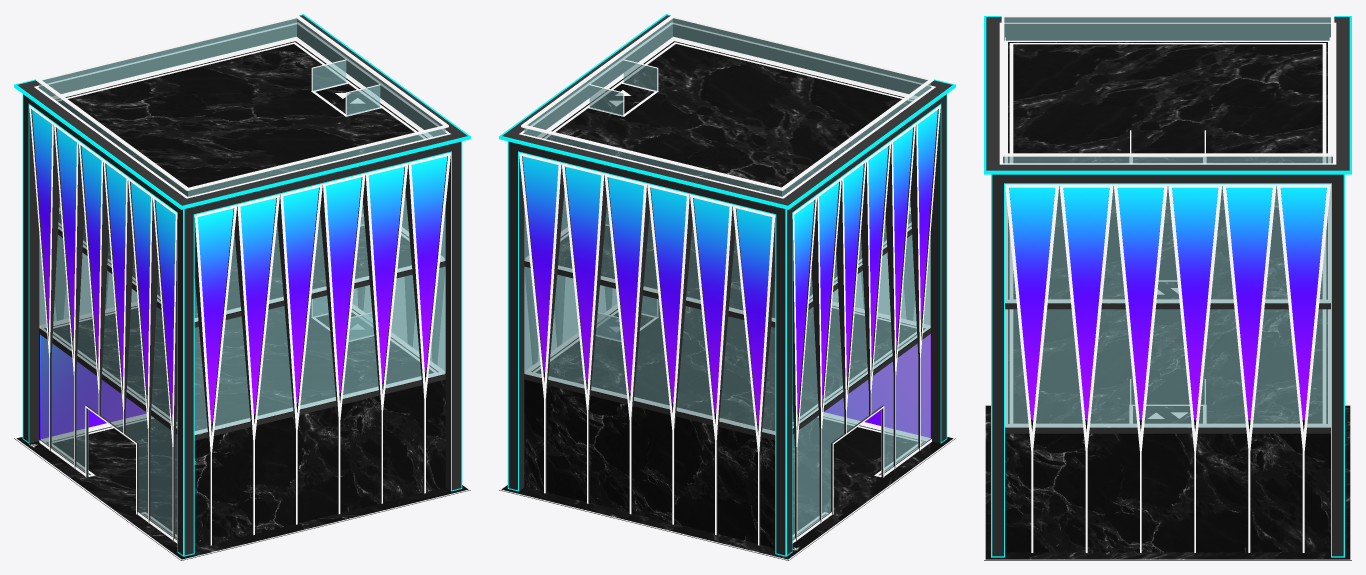
Rendered from Dhingia Builds 01 Blue 1x1.glb.
The picture shows the model from 3 angles, left to right: view 1: azimuth 30°, elevation 25°; view 2: azimuth 150°, elevation 25°; view 3: azimuth 270°, elevation 25°; orthographic projection. The views are drawn at different scales.
Visible parts, largest first — view 1: Mirror#2, Mesh_35, Mesh_7, Mirror, Mesh_37, Mesh_1, Mirror#1, Triangle.002, Triangle.003, Triangle.005, Triangle.001, Triangle.004 (+15 smaller); view 2: Mirror#2, Mesh_35, Mesh_7, Mirror, Mesh_37, Mesh_1, Mirror#1, Triangle.008, Triangle.009, Triangle.010, Triangle.007, Triangle.011 (+15 smaller); view 3: Mesh_7, Mirror#2, Mesh_35, Mesh_37, Mirror, Mirror#1, Mirror.001, Mesh_39, Triangle.012, Triangle.014, Triangle.016, Triangle.021 (+5 smaller).
Part boxes in pixels (left/top/right/bottom): Mirror#2: left=39, top=334, right=445, bottom=548; Mesh_35: left=14, top=14, right=470, bottom=556; Mesh_7: left=55, top=40, right=429, bottom=196; Mirror: left=39, top=234, right=445, bottom=434; Mesh_37: left=39, top=296, right=445, bottom=440; Mesh_1: left=14, top=416, right=470, bottom=560; Mirror#1: left=39, top=18, right=445, bottom=196; Triangle.002: left=277, top=184, right=322, bottom=524; Triangle.003: left=320, top=173, right=365, bottom=514; Triangle.005: left=405, top=152, right=450, bottom=493; Triangle.001: left=234, top=194, right=279, bottom=534; Triangle.004: left=363, top=163, right=408, bottom=503; Mirror#2: left=524, top=334, right=930, bottom=547; Mesh_35: left=499, top=14, right=955, bottom=556; Mesh_7: left=540, top=40, right=915, bottom=196; Mirror: left=524, top=234, right=930, bottom=434; Mesh_37: left=524, top=296, right=930, bottom=440; Mesh_1: left=499, top=415, right=955, bottom=560; Mirror#1: left=524, top=18, right=930, bottom=196; Triangle.008: left=647, top=184, right=692, bottom=524; Triangle.009: left=604, top=173, right=649, bottom=514; Triangle.010: left=519, top=152, right=564, bottom=493; Triangle.007: left=690, top=194, right=735, bottom=534; Triangle.011: left=561, top=163, right=606, bottom=503; Mesh_7: left=1003, top=40, right=1332, bottom=163; Mirror#2: left=1005, top=433, right=1330, bottom=552; Mesh_35: left=984, top=16, right=1351, bottom=557; Mesh_37: left=1005, top=309, right=1330, bottom=433; Mirror: left=1005, top=309, right=1330, bottom=427; Mirror#1: left=1004, top=17, right=1331, bottom=163; Mirror.001: left=1005, top=186, right=1330, bottom=303; Mesh_39: left=1005, top=186, right=1330, bottom=309; Triangle.012: left=1005, top=184, right=1059, bottom=552; Triangle.014: left=1222, top=184, right=1276, bottom=552; Triangle.016: left=1059, top=184, right=1113, bottom=552; Triangle.021: left=1276, top=184, right=1330, bottom=552.
Size of what is drawn, in the model's own units: 16 by 19.16 by 16.
Materials: 7 (2 with a texture image).
